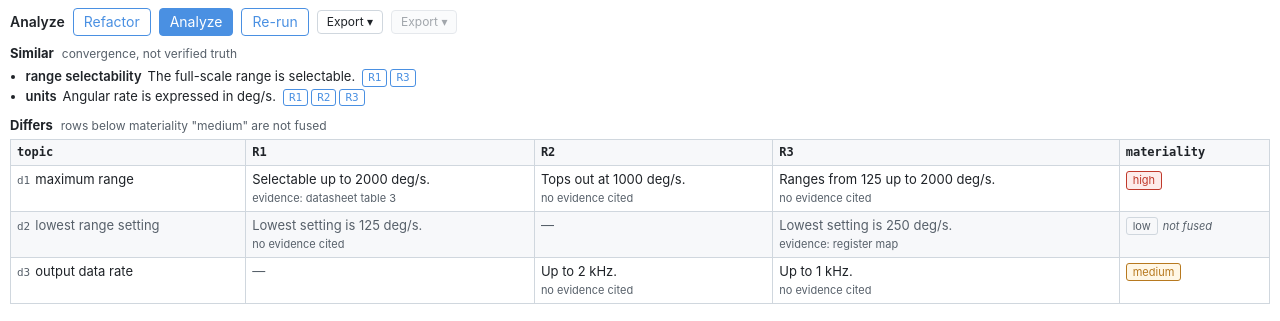
AnalyzePane: actions › Re-run posts {force:true}; a cached Analyze shows the chip
Click the button with test id "analyze-run": (196, 22) top-left (159, 8), bottom-right (234, 36)
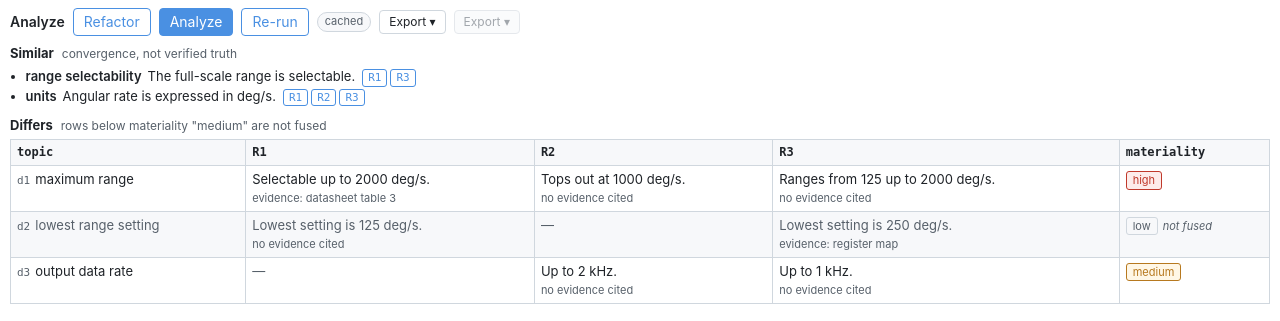
Result: the text "cached" is shown at top-left (317, 12), bottom-right (371, 32)
Click the button with test id "analyze-rerun": (275, 22) top-left (242, 8), bottom-right (309, 36)
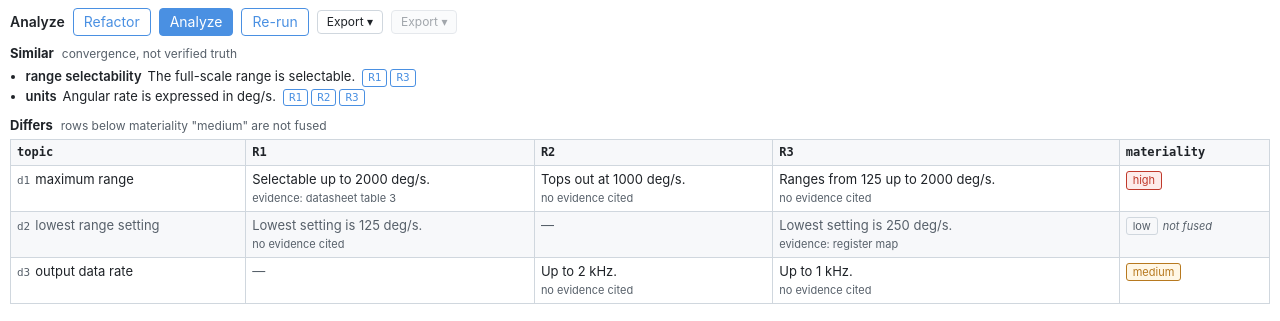
Result: the text with test id "analyze-cached" is gone
